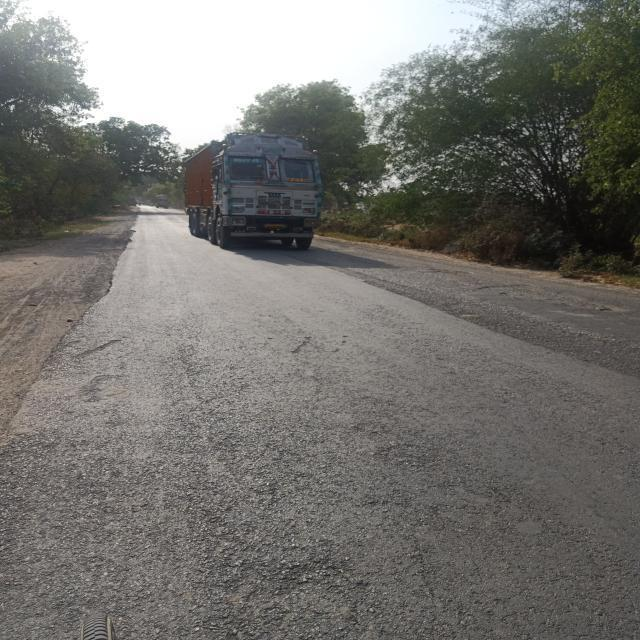truck_front: (177, 128, 328, 256)
